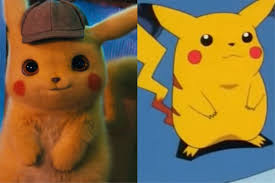pikachu: (1, 1, 137, 182), (138, 2, 274, 154)
